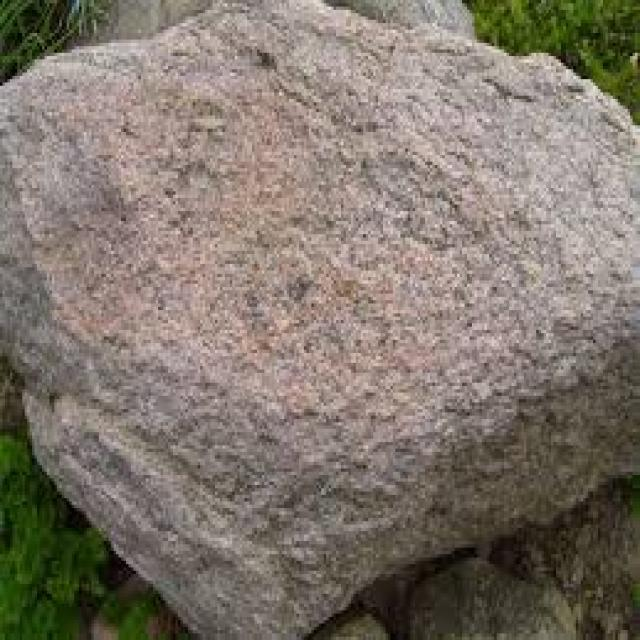Metamorphic: (5, 10, 637, 610)
